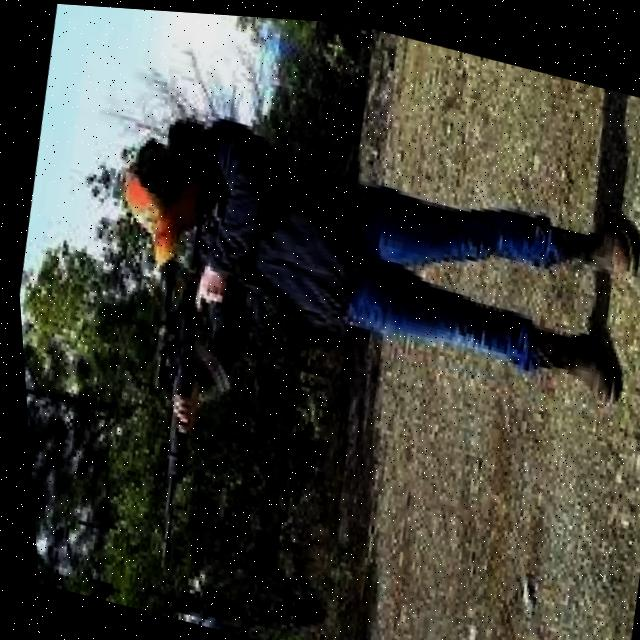firearm: (98, 166, 276, 584)
